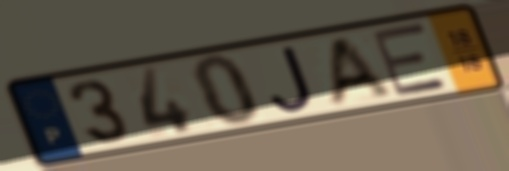0: (185, 52, 264, 128)
3: (67, 78, 132, 145)
4: (137, 64, 199, 137)
A: (326, 33, 395, 110)
E: (368, 20, 453, 99)
J: (266, 43, 317, 114)
